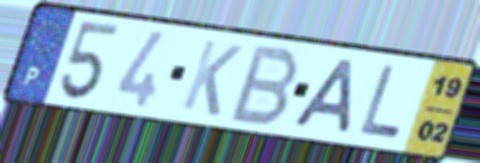4: (113, 27, 166, 112)
5: (56, 19, 123, 103)
A: (289, 56, 359, 137)
B: (225, 42, 303, 128)
K: (177, 37, 246, 120)
L: (356, 62, 405, 143)
